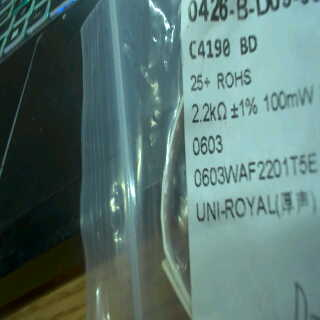2.2kR: (188, 98, 230, 124)
